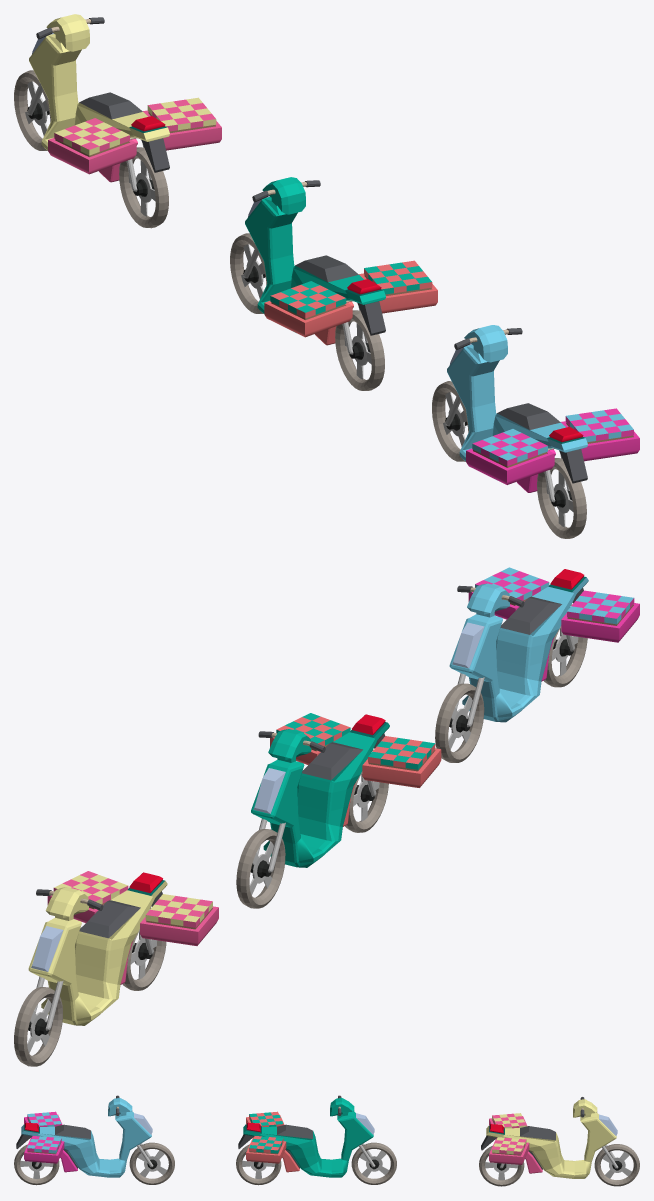
The model's file is Vehicles_Colored_geo.fbx.
The picture shows the model from 3 angles, top to bottom: view 1: azimuth 30°, elevation 25°; view 2: azimuth 150°, elevation 25°; view 3: azimuth 270°, elevation 25°; orthographic projection. The views are drawn at different scales.
Parts seen in each view (by area): view 1: TurqOrangeV8, YellowPinkV8, PinkBlueV8, YellowPinkWheelR, PinkBlueWheelR, TurqOrangeWheelR, TurqOrangeBoxL, PinkBlueBoxL, YellowPinkBoxL, YellowPinkBoxR, TurqOrangeBoxR, PinkBlueBoxR (+3 smaller); view 2: PinkBlueV8, TurqOrangeV8, YellowPinkV8, TurqOrangeWheelF, YellowPinkWheelF, PinkBlueWheelF, PinkBlueBoxL, YellowPinkBoxL, TurqOrangeBoxL, PinkBlueWheelR, TurqOrangeWheelR, YellowPinkWheelR (+3 smaller); view 3: PinkBlueV8, TurqOrangeV8, YellowPinkV8, YellowPinkWheelF, TurqOrangeWheelF, PinkBlueWheelF, YellowPinkWheelR, PinkBlueWheelR, TurqOrangeWheelR, PinkBlueBoxR, YellowPinkBoxR, TurqOrangeBoxR (+3 smaller).
Boxes of the visible parts, bbox=[...] form: TurqOrangeV8: bbox=[243, 177, 437, 359]; YellowPinkV8: bbox=[27, 14, 221, 196]; PinkBlueV8: bbox=[445, 325, 639, 507]; YellowPinkWheelR: bbox=[119, 147, 168, 228]; PinkBlueWheelR: bbox=[537, 458, 586, 538]; TurqOrangeWheelR: bbox=[335, 310, 384, 390]; TurqOrangeBoxL: bbox=[270, 281, 346, 320]; PinkBlueBoxL: bbox=[472, 429, 547, 467]; YellowPinkBoxL: bbox=[54, 118, 129, 157]; YellowPinkBoxR: bbox=[147, 97, 216, 133]; TurqOrangeBoxR: bbox=[364, 260, 432, 295]; PinkBlueBoxR: bbox=[565, 408, 633, 443]; PinkBlueV8: bbox=[449, 569, 639, 732]; TurqOrangeV8: bbox=[250, 714, 441, 877]; YellowPinkV8: bbox=[28, 872, 218, 1035]; TurqOrangeWheelF: bbox=[236, 829, 285, 908]; YellowPinkWheelF: bbox=[14, 987, 62, 1066]; PinkBlueWheelF: bbox=[435, 683, 484, 762]; PinkBlueBoxL: bbox=[567, 590, 634, 625]; YellowPinkBoxL: bbox=[145, 894, 212, 929]; TurqOrangeBoxL: bbox=[368, 736, 435, 771]; PinkBlueWheelR: bbox=[544, 625, 587, 687]; TurqOrangeWheelR: bbox=[345, 771, 388, 832]; YellowPinkWheelR: bbox=[122, 929, 166, 990]; PinkBlueV8: bbox=[16, 1095, 157, 1177]; TurqOrangeV8: bbox=[238, 1095, 379, 1177]; YellowPinkV8: bbox=[481, 1097, 622, 1178]; YellowPinkWheelF: bbox=[594, 1144, 639, 1186]; TurqOrangeWheelF: bbox=[351, 1142, 396, 1184]; PinkBlueWheelF: bbox=[129, 1142, 174, 1184]; YellowPinkWheelR: bbox=[479, 1146, 524, 1186]; PinkBlueWheelR: bbox=[14, 1144, 59, 1185]; TurqOrangeWheelR: bbox=[236, 1144, 281, 1185]; PinkBlueBoxR: bbox=[27, 1136, 61, 1154]; YellowPinkBoxR: bbox=[492, 1137, 526, 1155]; TurqOrangeBoxR: bbox=[249, 1136, 283, 1154].
Size of the model in its own units: 19.56 by 18.22 by 122.
Materials: 1 (1 with a texture image).
